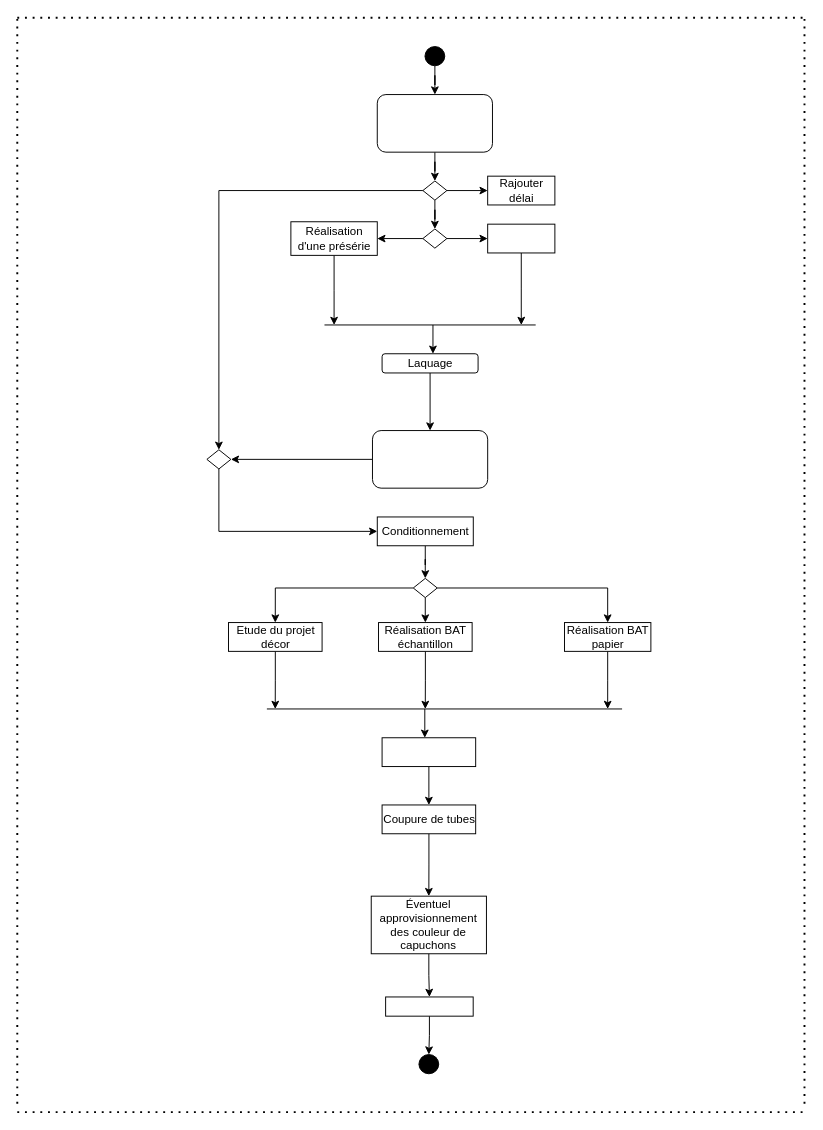
This 823x1130 diagram has some shape labels left out. The centre of each missing label's shape, as x and y in pixels:
"Capot" belongs at point 429,1006.
"Décapage à l'acide" belongs at point 430,459.
"décor" belongs at point 428,752.
"Réalisation de prototype" belongs at point 521,238.
"Vérification disponibilité" belongs at point 434,123.
